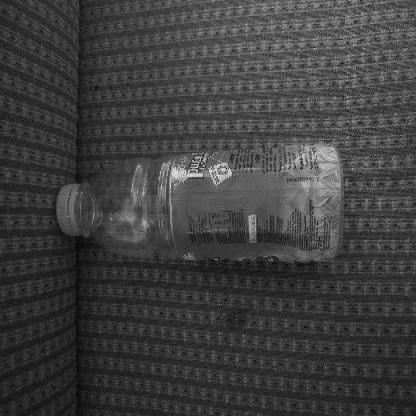plastic_bottles: (35, 135, 349, 269)
